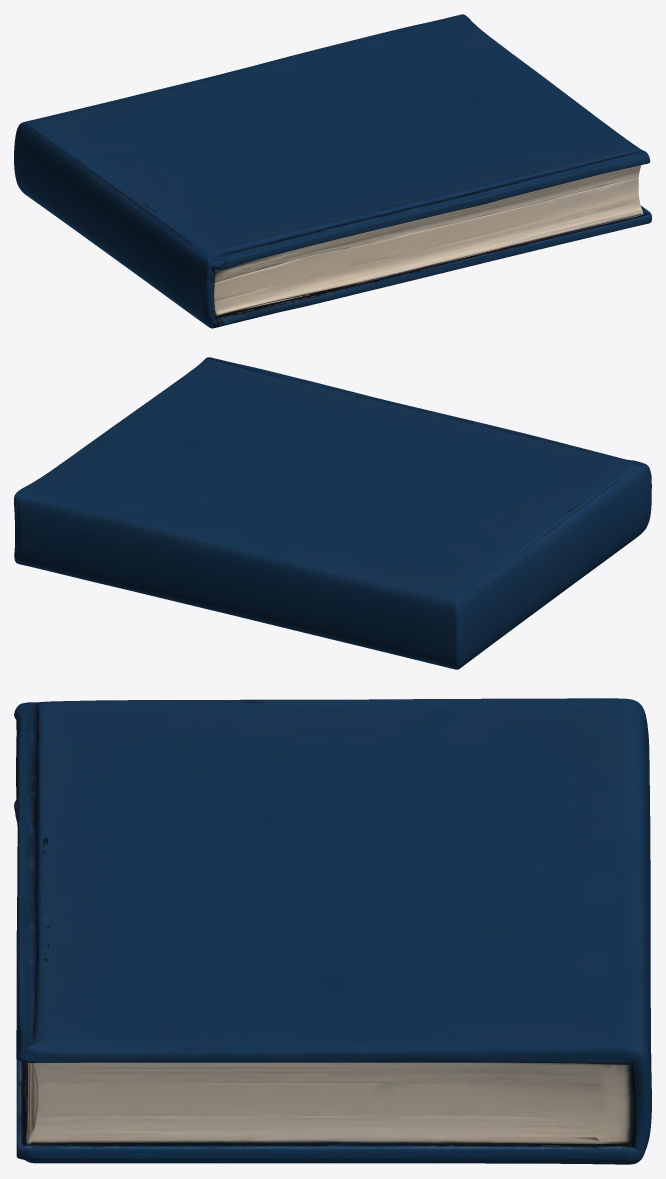
3 renders of one model, top to bottom at view 1: azimuth 30°, elevation 25°; view 2: azimuth 150°, elevation 25°; view 3: azimuth 270°, elevation 25°, orthographic. The views are drawn at different scales.
Visible parts, largest first — view 1: node_0; view 2: node_0; view 3: node_0.
Boxes of the visible parts, x1,y1,x2,y2 form: node_0: [14, 14, 651, 328]; node_0: [14, 357, 651, 669]; node_0: [14, 698, 651, 1164].
Size of the model in its own units: 0.9636 by 0.1513 by 0.7297.
Materials: 1 (1 with a texture image).
